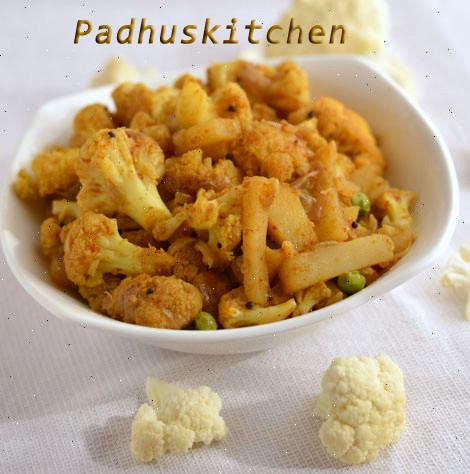aloo gobhi: (27, 57, 426, 341)
